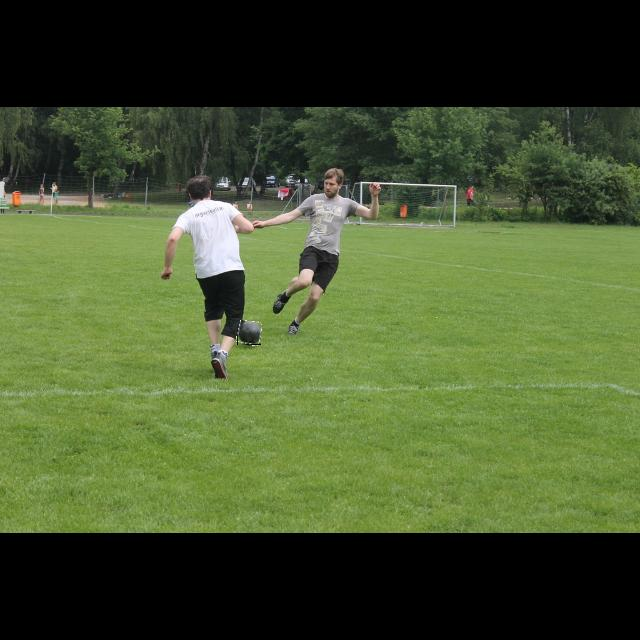Football: (237, 321, 261, 345)
